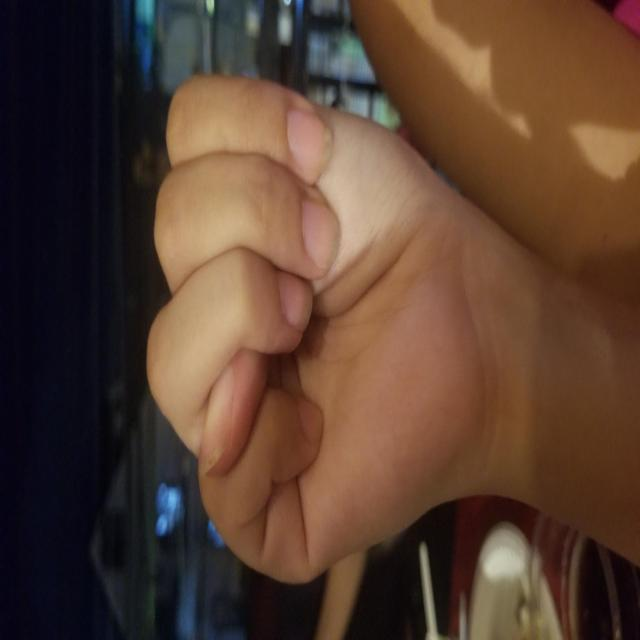M: (55, 142, 569, 474)
